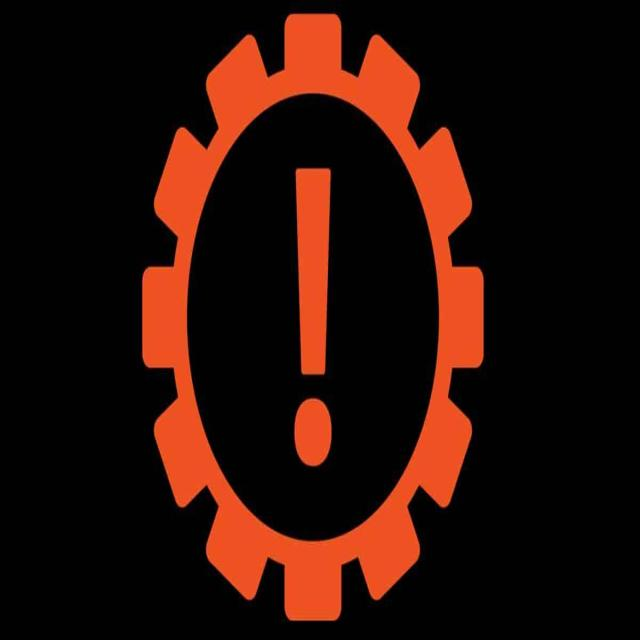kontrolka: (103, 2, 512, 633)
